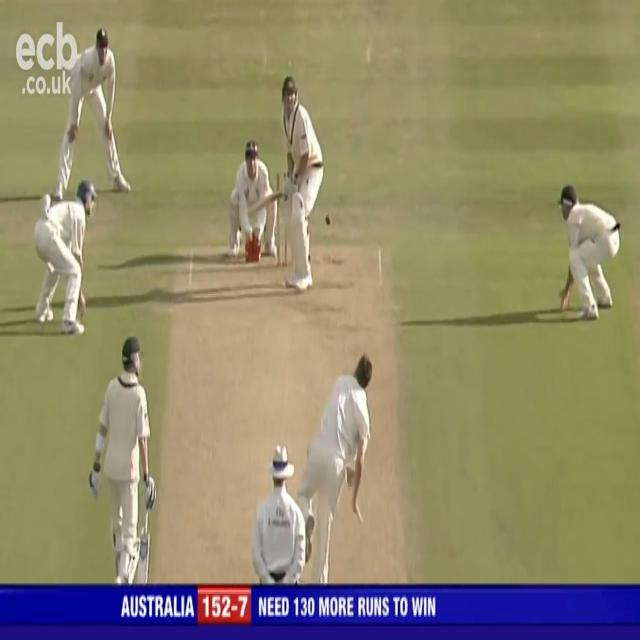ball: (324, 212, 333, 226)
